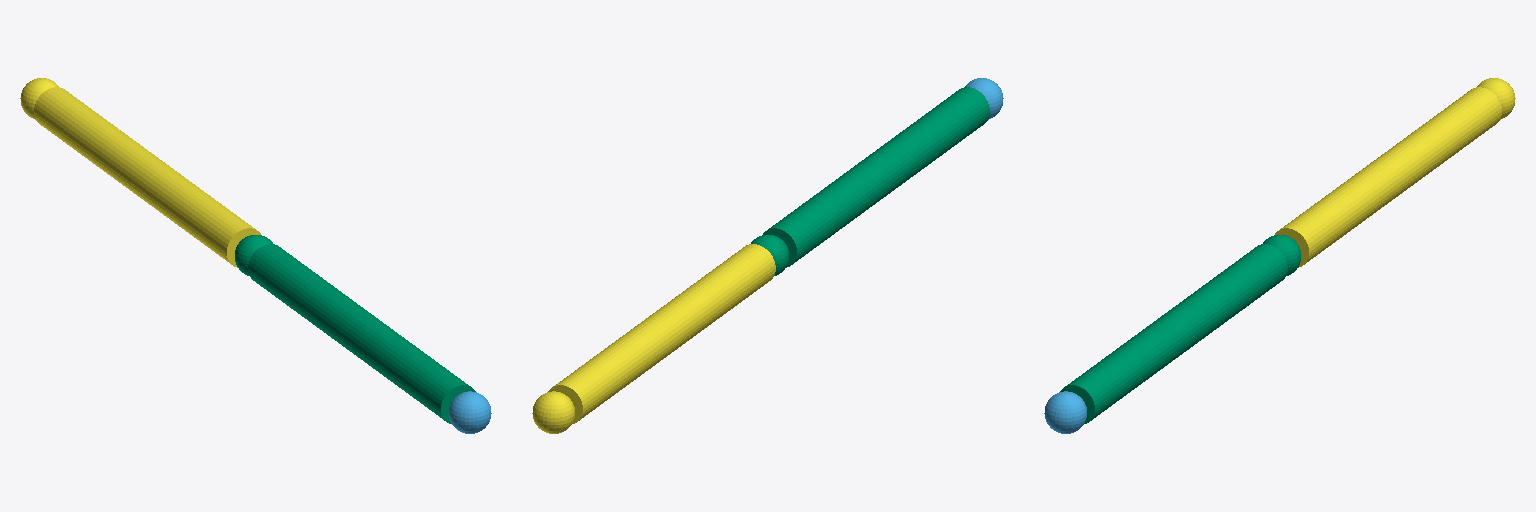
robot.urdf — two_link_arm:
<?xml version="1.0" ?>
<robot name="two_link_arm" xmlns:xacro="http://www.ros.org/wiki/xacro">
<link name="base"/>

<!-- joint between base and link_0  -->
<joint name="base_joint" type="fixed">
    <origin rpy="0 0 0" xyz="0 0 0"/>
	<parent link="base"/>
	<child link="link_0"/>
</joint>

<link name="link_0">
	<visual>
		<origin rpy="0 0 0" xyz="0 0 0.05"/>
		<geometry>
			<sphere radius="0.05"/>
		</geometry>
	</visual>
</link>

<!-- joint between link_0 and link_1 -->
<joint name="joint_1" type="revolute">
	<parent link="link_0"/>
	<child link="link_1"/>
	<origin rpy="0 0 0" xyz="0 0 0.05"/>
	<axis xyz="1 0 0"/>
<limit effort="100" lower="-2.96705972839" upper="2.96705972839" velocity="10"/>
</joint>

<link name="link_1">
	<inertial>
		  <origin xyz="0 0.5 0" rpy="0 0 0" />
		  <mass value="1" />
		  <inertia ixx="0.0833" ixy="0" ixz="0" iyy="0" iyz="0" izz="0.0833" />
    </inertial>

	<visual>
		<origin xyz="0 0.5 0" rpy="1.5708 0 0"/>
		<geometry>
			<cylinder length="0.9" radius="0.05"/>
		</geometry>
	</visual>

	<visual>
		<origin xyz="0 1.0 0" rpy="0 0 0"/>
		<geometry>
			<sphere radius="0.05"/>
		</geometry>
	</visual>
</link>

<!-- joint between link_1 and link_2 -->
<joint name="joint_2" type="revolute">
	<parent link="link_1"/>
	<child link="link_2"/>
	<origin rpy="0 0 0" xyz="0 1 0"/>
	<axis xyz="1 0 0"/>
<limit effort="100" lower="-2.96705972839" upper="2.96705972839" velocity="10"/>
</joint>

<link name="link_2">
	<inertial>
		  <origin xyz="0 0.5 0" rpy="0 0 0" />
		  <mass value="1" />
		  <inertia ixx="0.0833" ixy="0" ixz="0" iyy="0" iyz="0" izz="0.0833" />
    </inertial>

	<visual>
		<origin xyz="0 0.5 0" rpy="1.5708 0 0"/>
		<geometry>
			<cylinder length="0.9" radius="0.05"/>
		</geometry>
	</visual>

	<visual>
		<origin xyz="0 1.0 0" rpy="0 0 0"/>
		<geometry>
			<sphere radius="0.05"/>
		</geometry>
	</visual>

	<collision>
		<origin xyz="0 1.0 0" rpy="0 0 0"/>
		<geometry>
			<sphere radius="0.05"/>
		</geometry>		
	</collision>
</link>

<!-- joint between link_2 and end effector link -->
<joint name="joint_ee" type="fixed">
	<parent link="link_2"/>
	<child link="link_ee"/>
	<origin rpy="0 0 0" xyz="0 1 0"/>
</joint>

<link name="link_ee"/>

<transmission name="tran_1">
	<robotNamespace>/two_link_arm</robotNamespace>
	<type>transmission_interface/SimpleTransmission</type>
	<joint name="joint_1">
	  <hardwareInterface>PositionJointInterface</hardwareInterface>
	</joint>
	<actuator name="motor_1">
	  <hardwareInterface>PositionJointInterface</hardwareInterface>
	  <mechanicalReduction>1</mechanicalReduction>
	</actuator>
</transmission>

<transmission name="tran_2">
	<robotNamespace>/two_link_arm</robotNamespace>
	<type>transmission_interface/SimpleTransmission</type>
	<joint name="joint_2">
	  <hardwareInterface>PositionJointInterface</hardwareInterface>
	</joint>
	<actuator name="motor_2">
	  <hardwareInterface>PositionJointInterface</hardwareInterface>
	  <mechanicalReduction>1</mechanicalReduction>
	</actuator>
</transmission>

</robot>

--- Facts derived from the render (not from the file) ---
3 views of the same robot in one strip: view 1: azimuth 30°, elevation 25°; view 2: azimuth 150°, elevation 25°; view 3: azimuth 330°, elevation 25° (orthographic).
Model two_link_arm with 5 links and 4 joints (2 revolute, 2 fixed), rooted at base, posed every joint at zero.
Visible links, largest first — view 1: link_1, link_2, link_0; view 2: link_2, link_1, link_0; view 3: link_1, link_2, link_0.
Boxes of the visible links, left/top/right/bottom form: link_1: left=235, top=235, right=475, bottom=423; link_2: left=20, top=78, right=260, bottom=267; link_0: left=449, top=391, right=491, bottom=433; link_2: left=532, top=244, right=775, bottom=433; link_1: left=751, top=87, right=989, bottom=275; link_0: left=965, top=78, right=1003, bottom=119; link_1: left=1060, top=235, right=1300, bottom=423; link_2: left=1275, top=78, right=1515, bottom=267; link_0: left=1044, top=391, right=1086, bottom=433.
Size in the robot's own frame: 0.1 by 2.1 by 0.1 metres.
Geometry: primitives only (box / cylinder / sphere), no mesh files.
